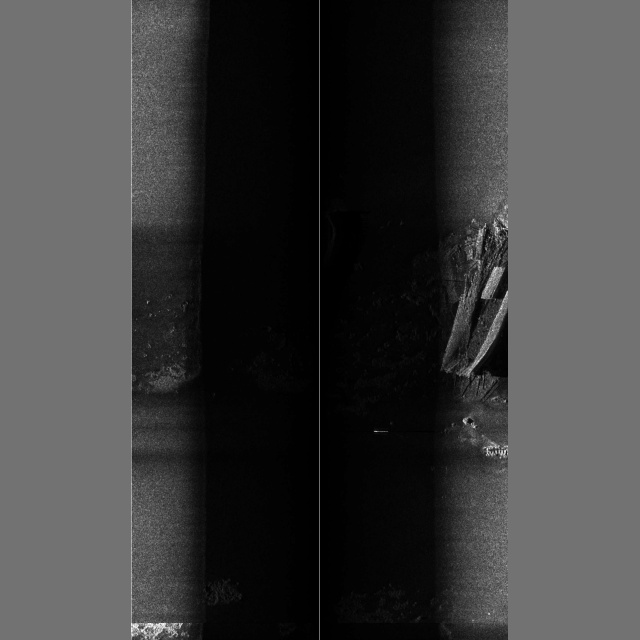Shipwreck: (440, 218, 508, 459)
